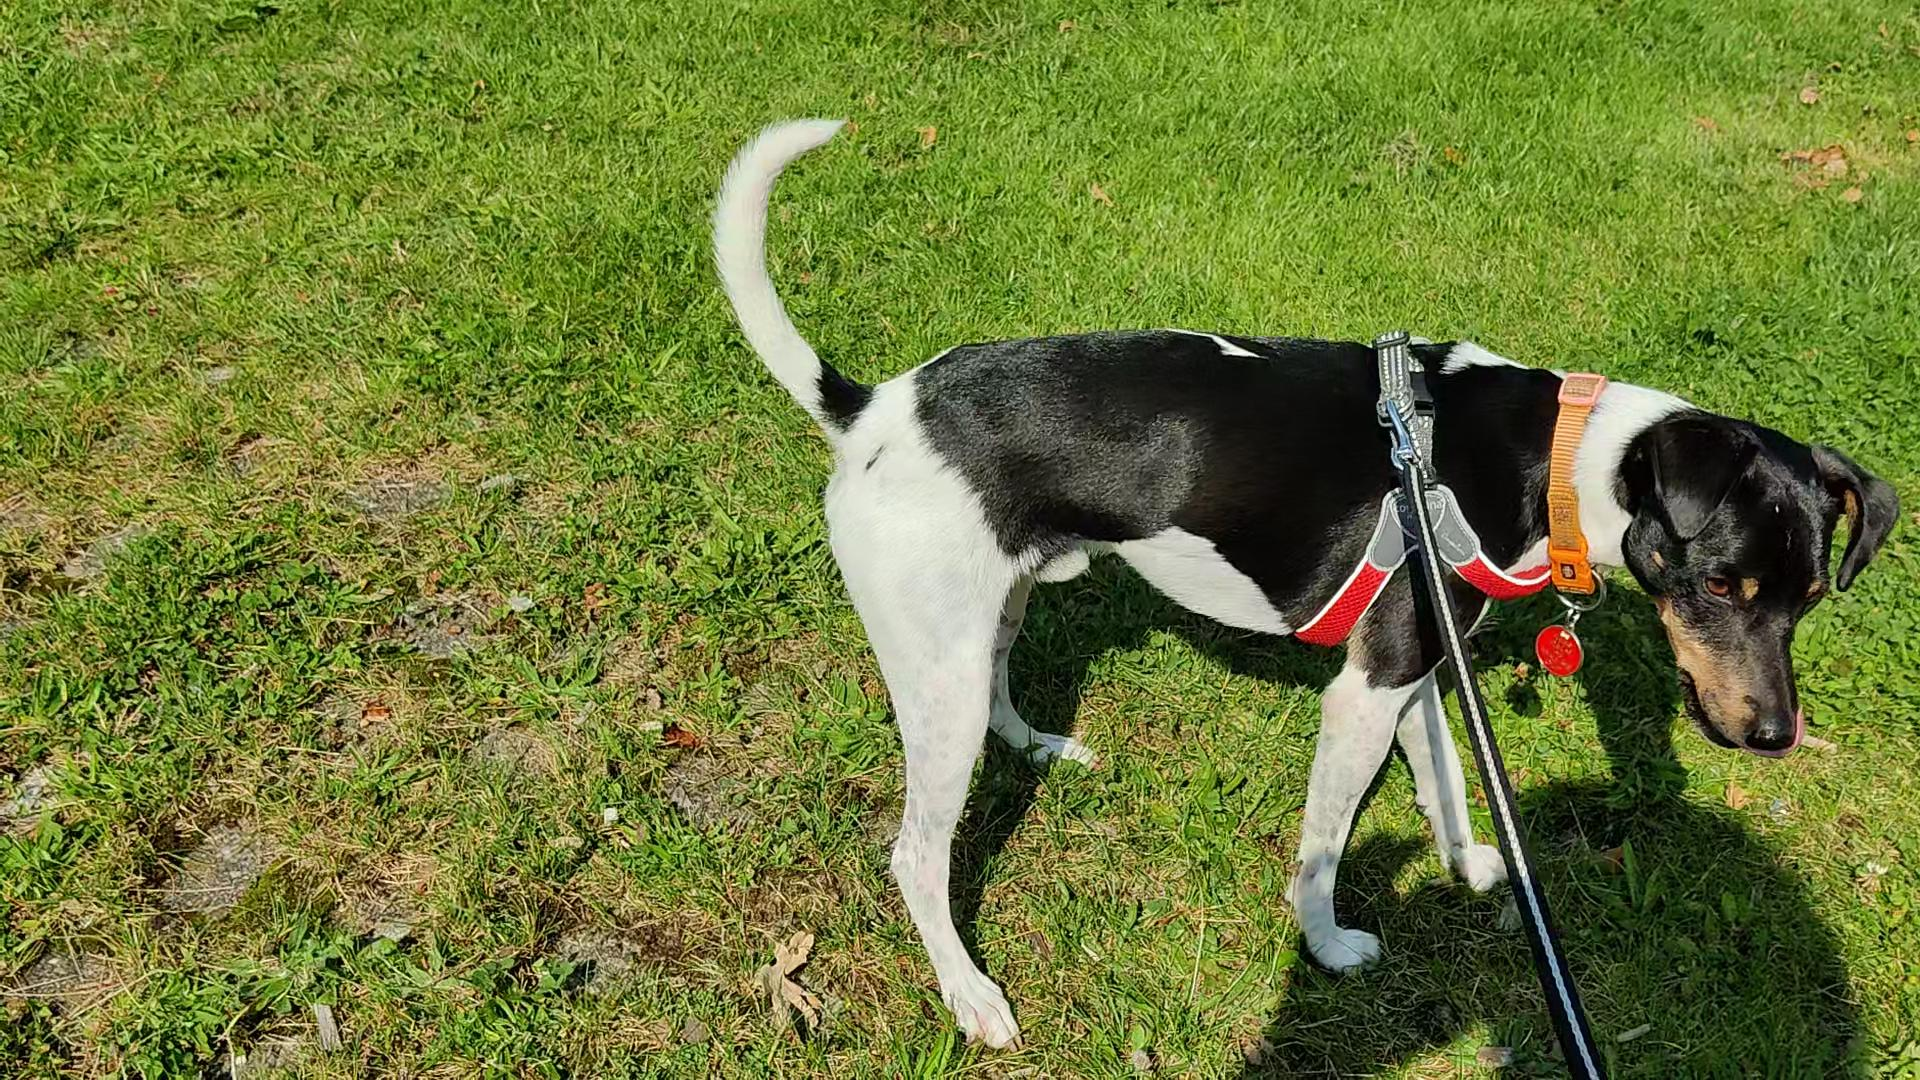Dog: (702, 104, 1899, 1058)
